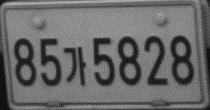2: (143, 35, 168, 86)
5: (92, 36, 115, 86), (39, 37, 61, 86)
8: (116, 35, 142, 86), (12, 36, 36, 86), (170, 34, 194, 84)
가: (63, 45, 87, 87)
